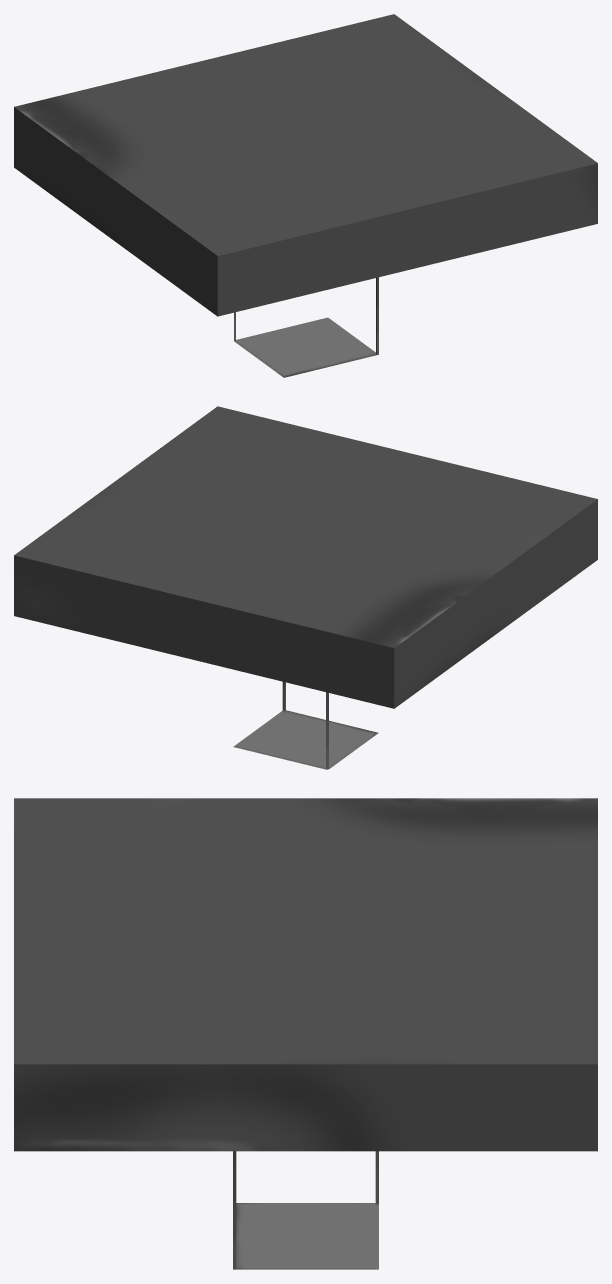
File: new_station.obj
3 renders of one model, top to bottom at view 1: azimuth 30°, elevation 25°; view 2: azimuth 150°, elevation 25°; view 3: azimuth 270°, elevation 25°, orthographic. The views are drawn at different scales.
Visible parts, largest first — view 1: Cube_Material; view 2: Cube_Material; view 3: Cube_Material.
Boxes of the visible parts, box(x1,y1,x2,y2) form: Cube_Material: box(14, 14, 597, 377); Cube_Material: box(14, 406, 597, 769); Cube_Material: box(14, 798, 597, 1269).
Bounding box in the file's own units: 13.12 × 7.01 × 12.17.
1 material, 1 textured.
